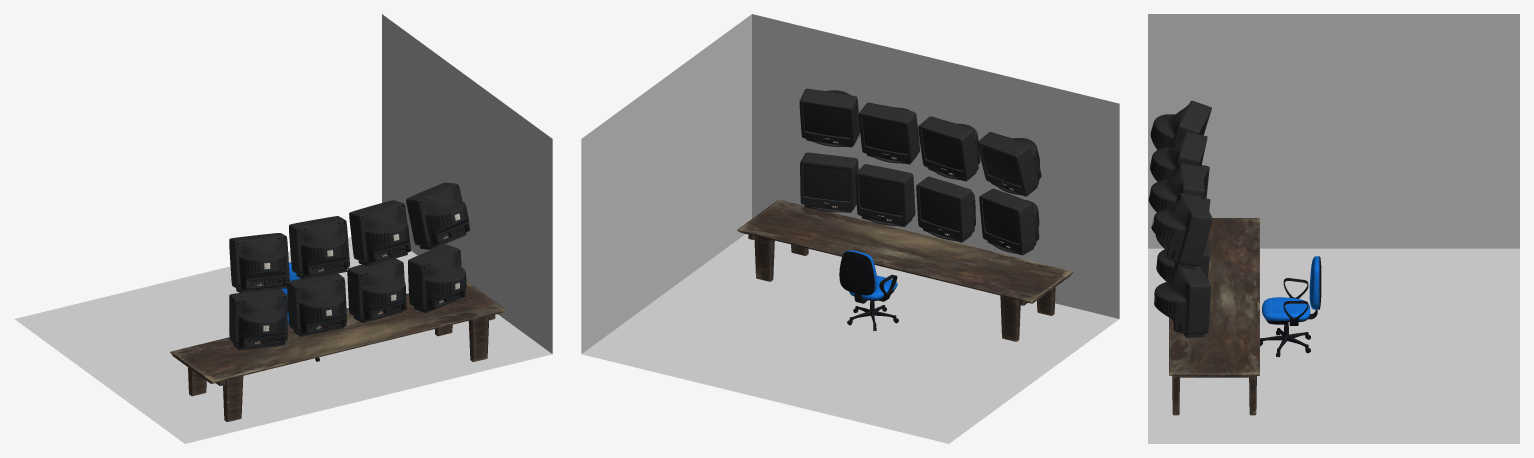
Rendered from Staff_room.glb.
3 renders of one model, left to right at view 1: azimuth 30°, elevation 25°; view 2: azimuth 150°, elevation 25°; view 3: azimuth 270°, elevation 25°, orthographic. The views are drawn at different scales.
Visible parts, largest first — view 1: Куб, table_low, rear_section.007, rear_section.003, rear_section.005, rear_section.001, rear_section.004, rear_section, rear_section.006, rear_section.002, Front_section.002, Front_section.006 (+6 smaller); view 2: Куб, table_low, Chair_, Front_section.005, Front_section.003, Front_section.001, Front_section.007, Front_section.004, Front_section, Front_section.006, Front_section.002, Screen.002 (+7 smaller); view 3: Куб, table_low, Chair_, rear_section.006, rear_section.002, Front_section.006, Front_section.002, rear_section.004, rear_section.007, rear_section.005, Front_section.007, Front_section.005 (+2 smaller).
Part boxes in pixels (x1,y1,x2,y2): Куб: [14, 14, 552, 443]; table_low: [170, 281, 506, 421]; rear_section.007: [234, 235, 289, 293]; rear_section.003: [234, 295, 287, 350]; rear_section.005: [296, 220, 349, 279]; rear_section.001: [295, 277, 346, 336]; rear_section.004: [359, 203, 410, 265]; rear_section: [358, 262, 406, 322]; rear_section.006: [418, 184, 470, 249]; rear_section.002: [421, 249, 466, 312]; Front_section.002: [408, 244, 459, 312]; Front_section.006: [406, 182, 457, 249]; Куб: [581, 14, 1119, 443]; table_low: [737, 199, 1073, 341]; Chair_: [839, 250, 898, 330]; Front_section.005: [918, 116, 977, 181]; Front_section.003: [979, 189, 1035, 255]; Front_section.001: [916, 177, 973, 242]; Front_section.007: [977, 132, 1038, 196]; Front_section.004: [858, 103, 919, 164]; Front_section: [855, 164, 914, 226]; Front_section.006: [799, 89, 859, 147]; Front_section.002: [800, 152, 858, 212]; Screen.002: [804, 164, 849, 201]; Куб: [1148, 14, 1519, 443]; table_low: [1169, 218, 1259, 415]; Chair_: [1260, 256, 1321, 357]; rear_section.006: [1151, 193, 1192, 266]; rear_section.002: [1154, 264, 1190, 337]; Front_section.006: [1178, 193, 1212, 269]; Front_section.002: [1179, 266, 1210, 337]; rear_section.004: [1148, 163, 1184, 212]; rear_section.007: [1150, 100, 1191, 149]; rear_section.005: [1150, 132, 1186, 181]; Front_section.007: [1173, 100, 1211, 145]; Front_section.005: [1176, 132, 1207, 170].
Size of the model in its own units: 3.57 by 2 by 2.87.
5 materials, 5 textured.
